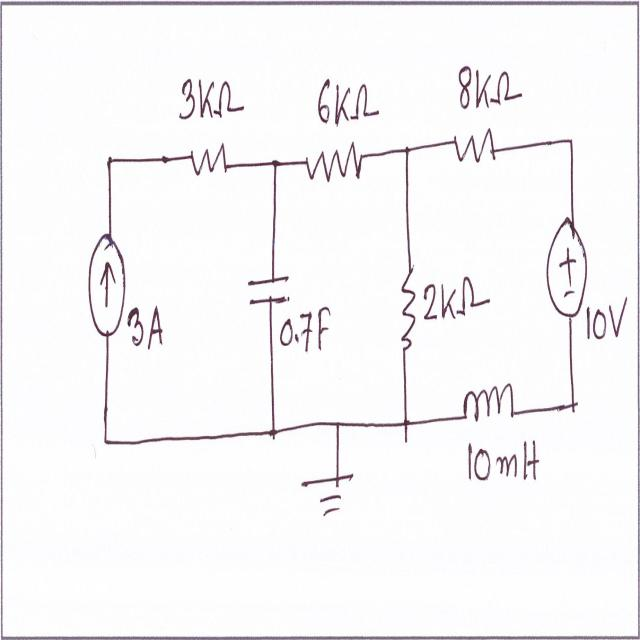capacitor: (243, 266, 296, 317)
current_source: (85, 223, 129, 349)
ground: (300, 460, 359, 523)
inductor: (458, 379, 522, 432)
resistor: (304, 138, 366, 192), (182, 131, 236, 185), (450, 125, 502, 176), (397, 255, 417, 374)
voltage_source: (539, 212, 592, 326)
